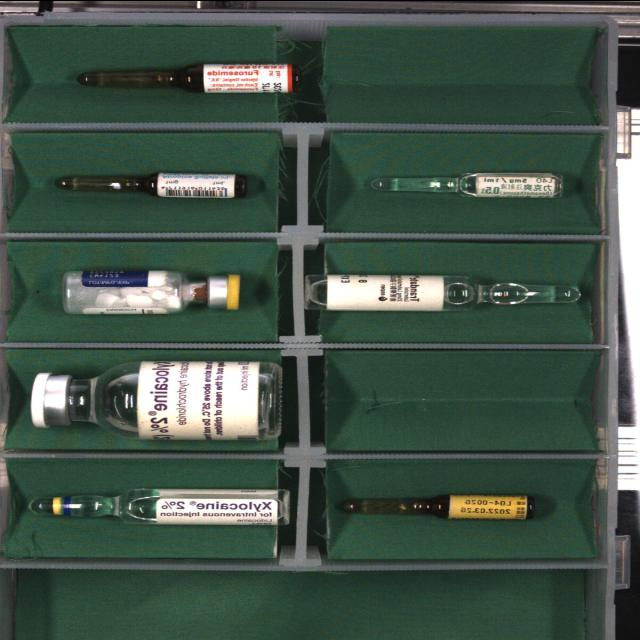Vials: (30, 360, 281, 439), (63, 269, 240, 312)
